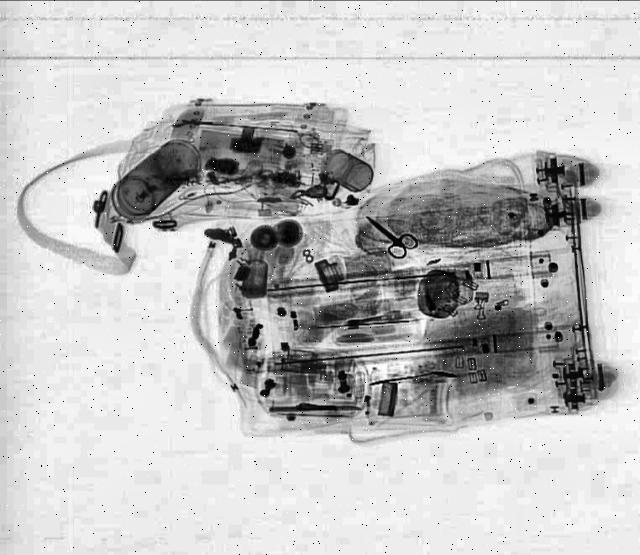Scissors: (353, 206, 422, 260)
